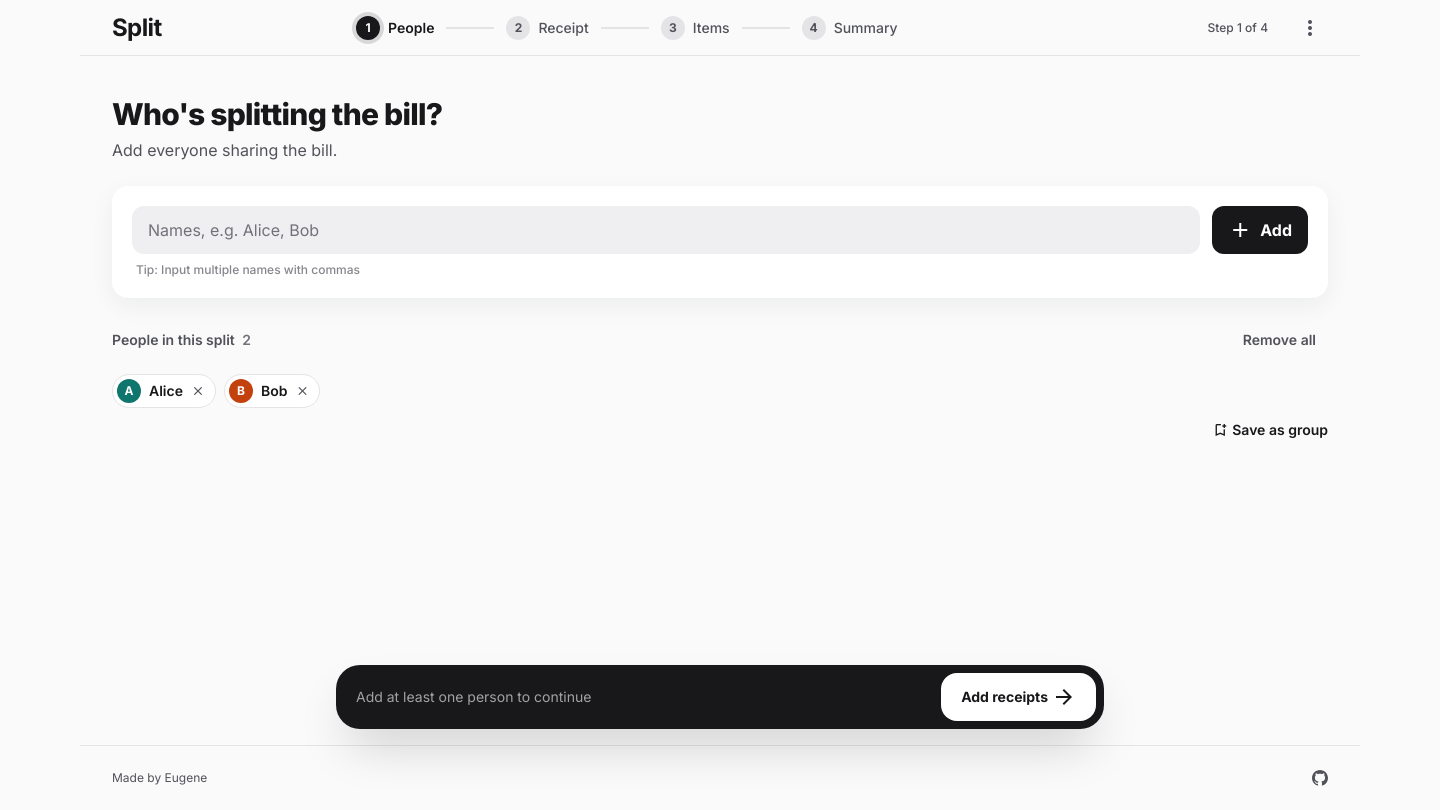
Test: ReceiptSplitterPage integration › Navigation › jumps from summary directly back to people through the top nav
Click the button with test id "wizard-continue-btn" at (1019, 697), box [941, 673, 1096, 721]
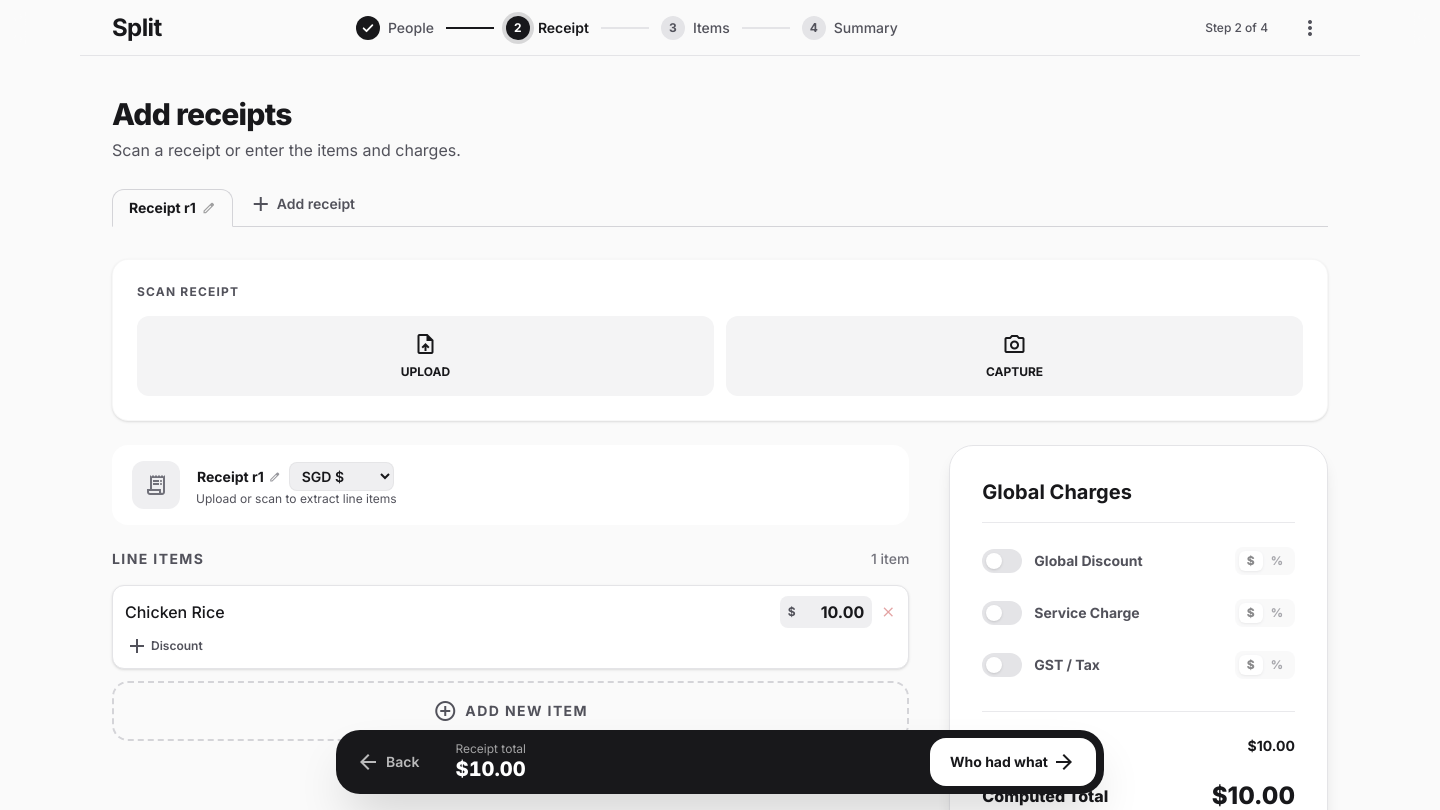
Click the button with test id "wizard-continue-btn" at (1013, 762), box [930, 738, 1096, 786]
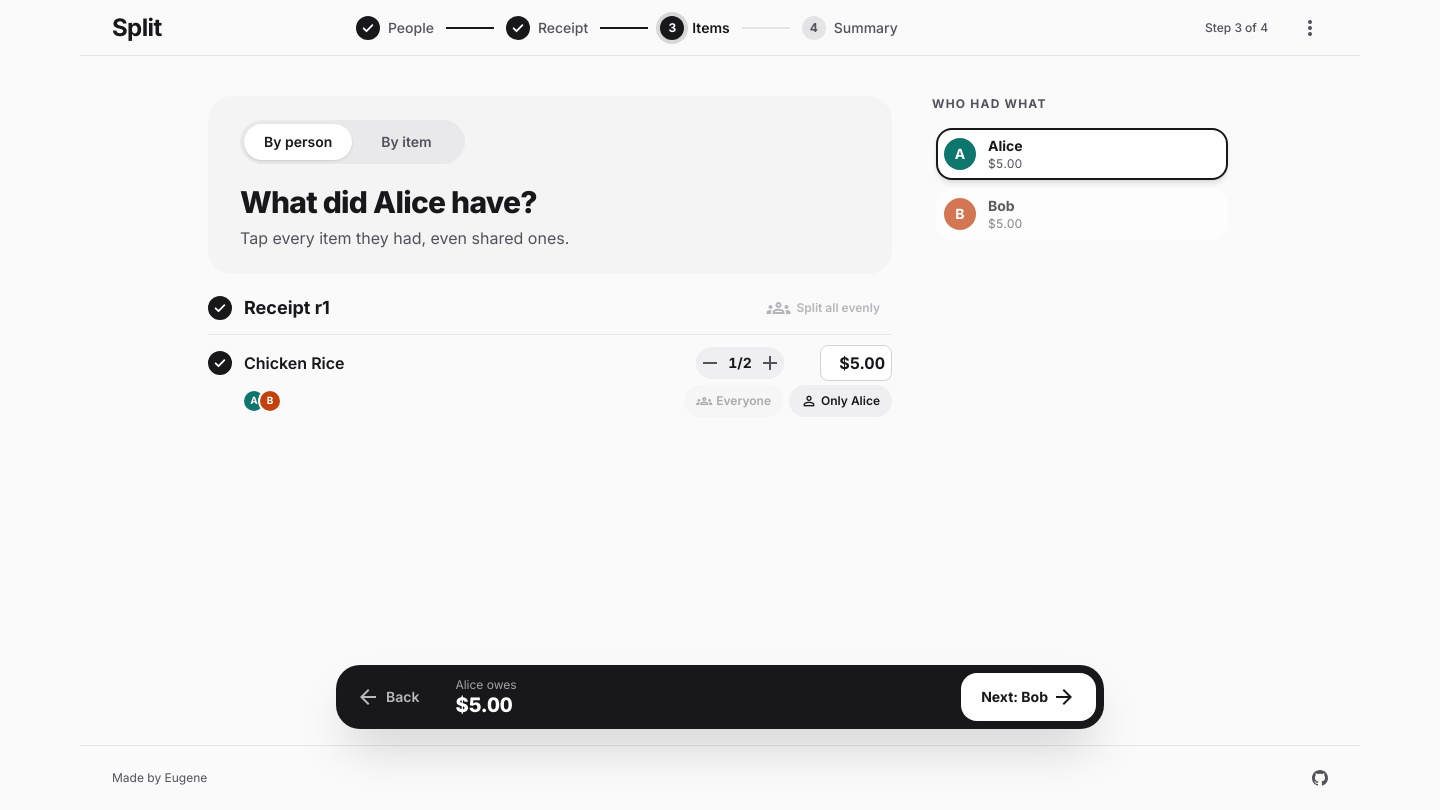
Click the button with test id "wizard-continue-btn" at (1029, 697), box [961, 673, 1096, 721]
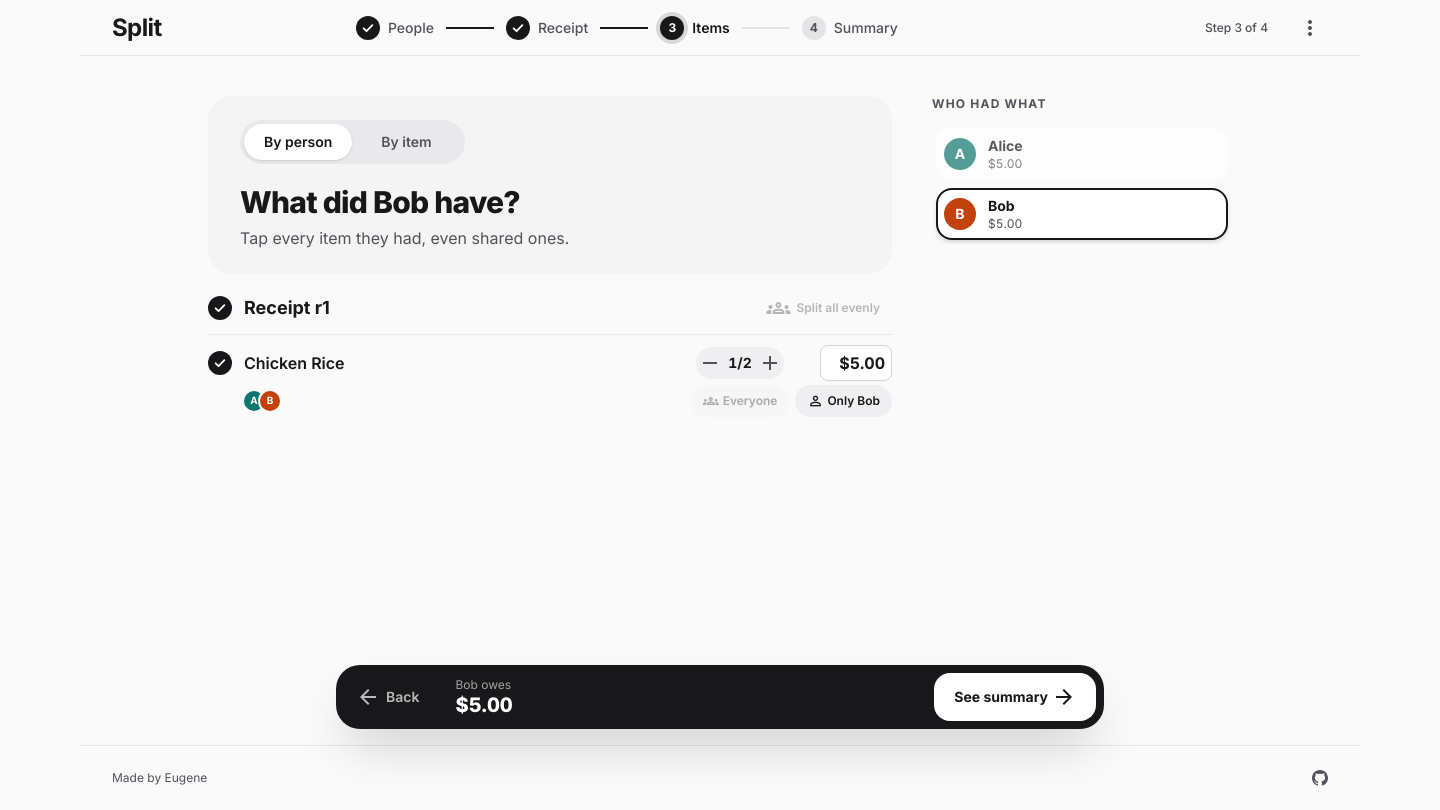
Click the button with test id "wizard-continue-btn" at (1015, 697), box [934, 673, 1096, 721]
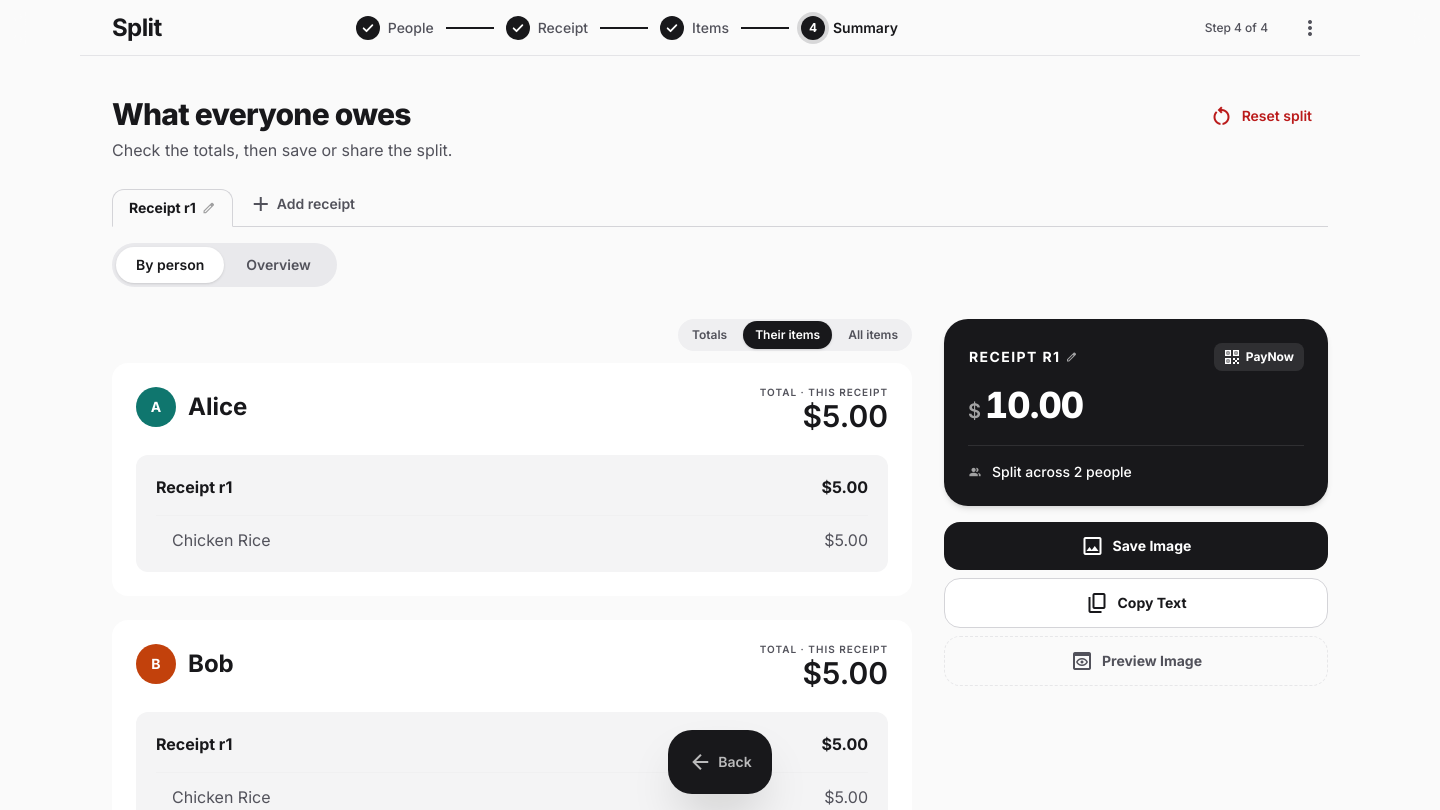
Check: the button with test id "wizard-step-nav-final" is marked as current, box [793, 10, 906, 46]
Click the button "People" at (395, 28), box [348, 10, 442, 46]
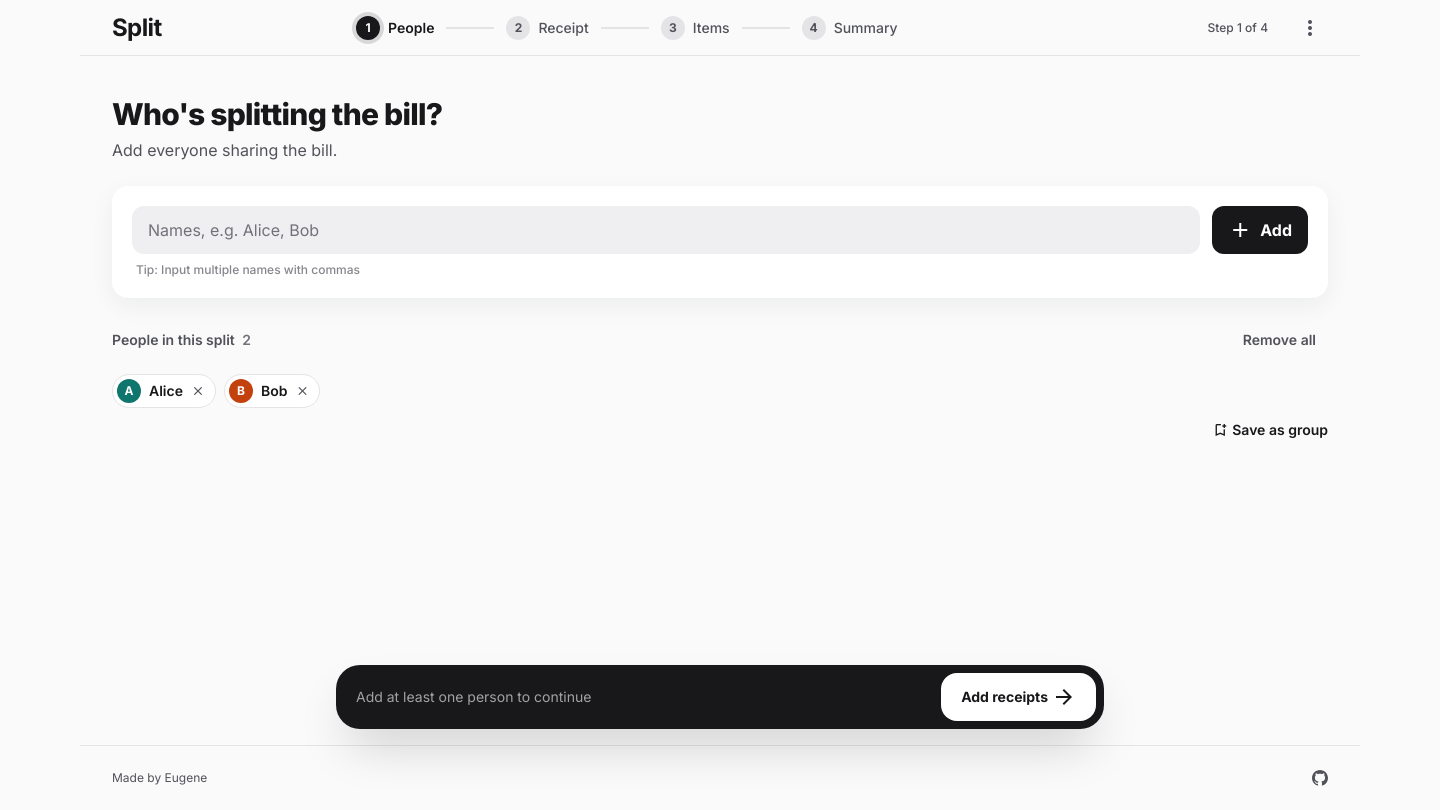
Check: the element with test id "people-list" is shown, box [112, 374, 320, 408]
